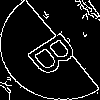B: (25, 25, 89, 79)
